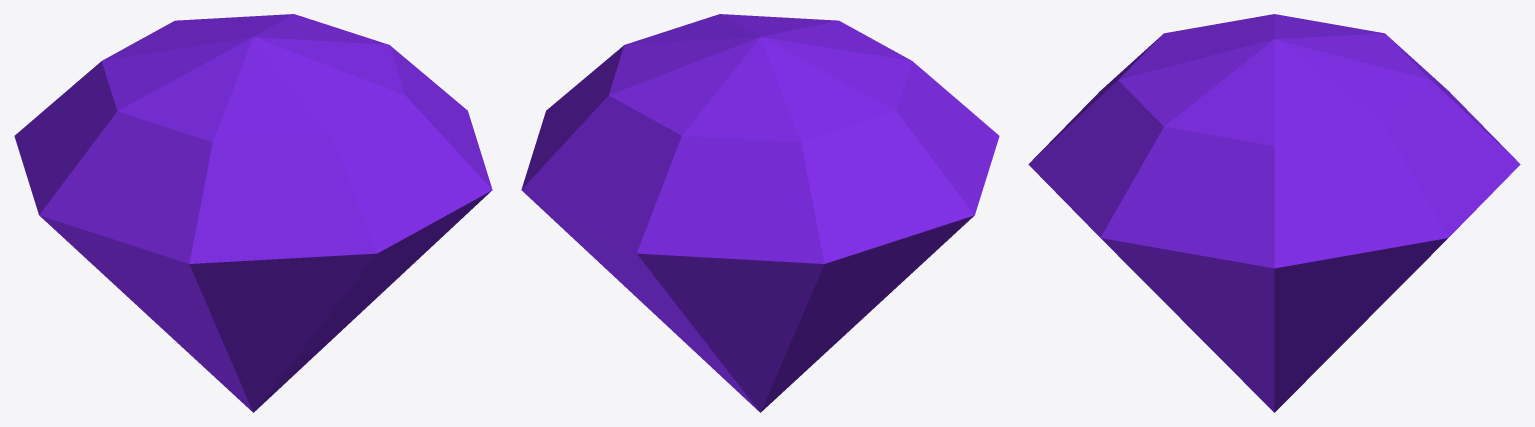
The model's file is Diamond3.fbx.
3 views of the same model, side by side, from view 1: azimuth 30°, elevation 25°; view 2: azimuth 150°, elevation 25°; view 3: azimuth 270°, elevation 25° (orthographic).
Parts seen in each view (by area): view 1: Cone; view 2: Cone; view 3: Cone.
Boxes of the visible parts, left/top/right/bottom form: Cone: left=14, top=14, right=492, bottom=412; Cone: left=521, top=14, right=999, bottom=412; Cone: left=1028, top=14, right=1520, bottom=412.
Bounding box in the file's own units: 91.78 × 76.89 × 91.78.
